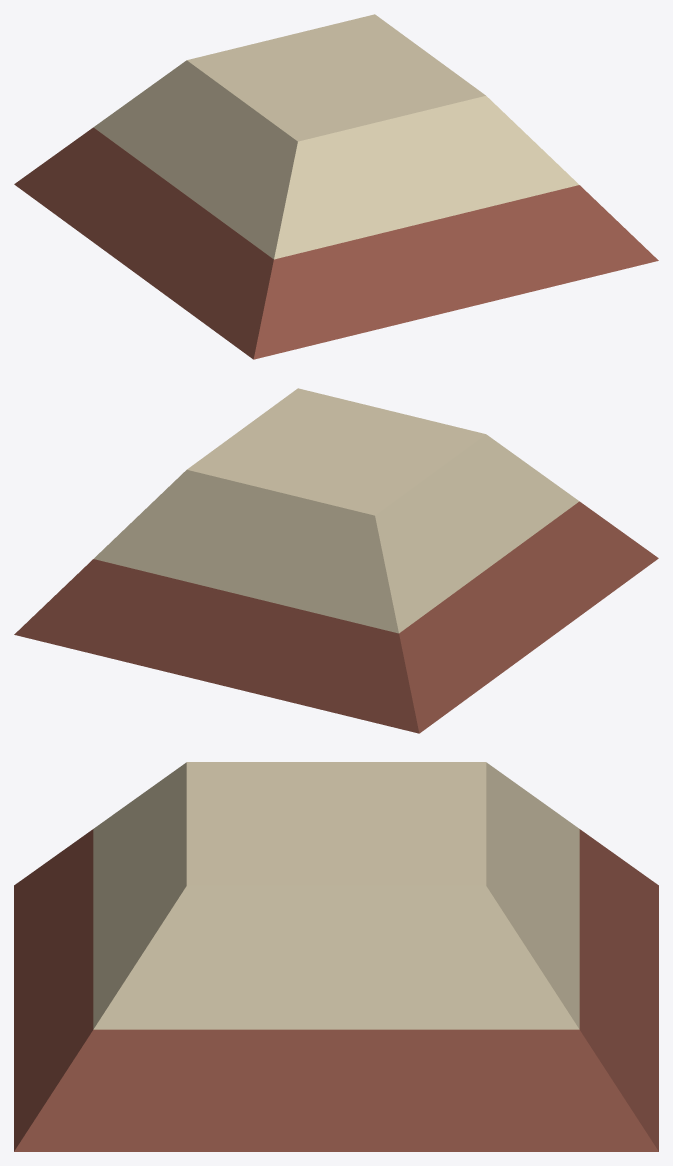
Rendered from giza-menkaure-b90.glb.
3 views of the same model, one above another, from view 1: azimuth 30°, elevation 25°; view 2: azimuth 150°, elevation 25°; view 3: azimuth 270°, elevation 25° (orthographic). The views are drawn at different scales.
Bounding box in the file's own units: 102 × 34.84 × 105.
